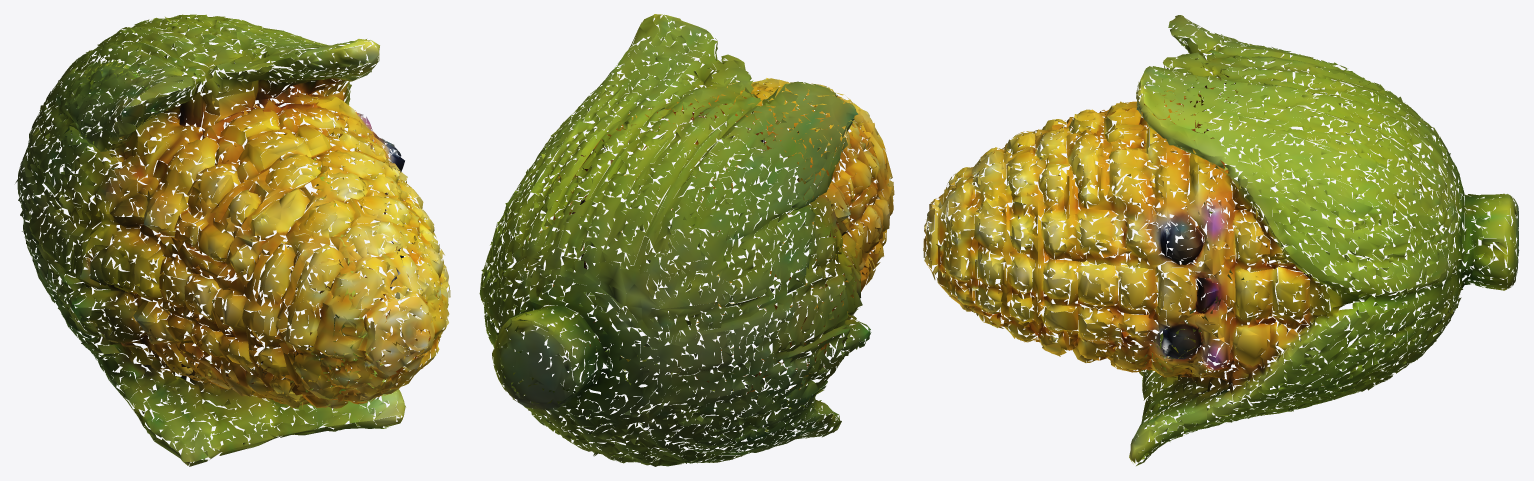
The model's file is veg_corn.glb.
3 renders of one model, left to right at view 1: azimuth 30°, elevation 25°; view 2: azimuth 150°, elevation 25°; view 3: azimuth 270°, elevation 25°, orthographic. The views are drawn at different scales.
Parts seen in each view (by area): view 1: mesh.obj; view 2: mesh.obj; view 3: mesh.obj.
Part boxes in pixels (box(x1,y1,x2,y2)): mesh.obj: box(15, 14, 450, 466); mesh.obj: box(479, 14, 894, 466); mesh.obj: box(923, 15, 1519, 465).
Bounding box in the file's own units: 0.5878 × 0.6861 × 1.01.
1 material, 1 textured.
